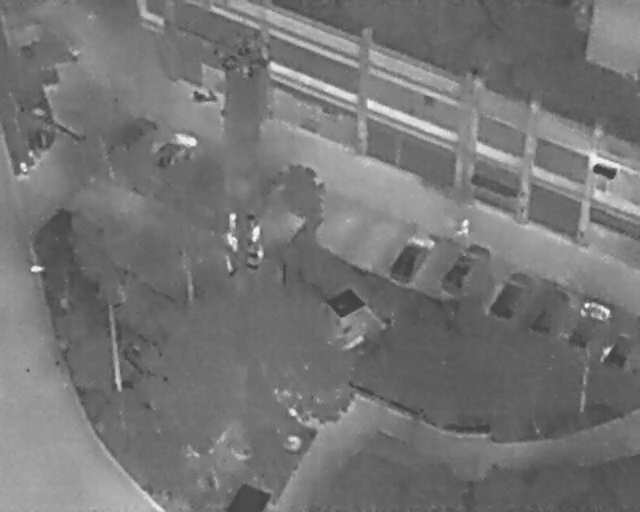Bicycle: (188, 87, 219, 104)
Car: (437, 236, 493, 303), (384, 224, 439, 291), (146, 122, 203, 183), (485, 265, 539, 329), (564, 297, 615, 357), (525, 282, 573, 340), (596, 323, 639, 374)
Person: (457, 216, 472, 238)
